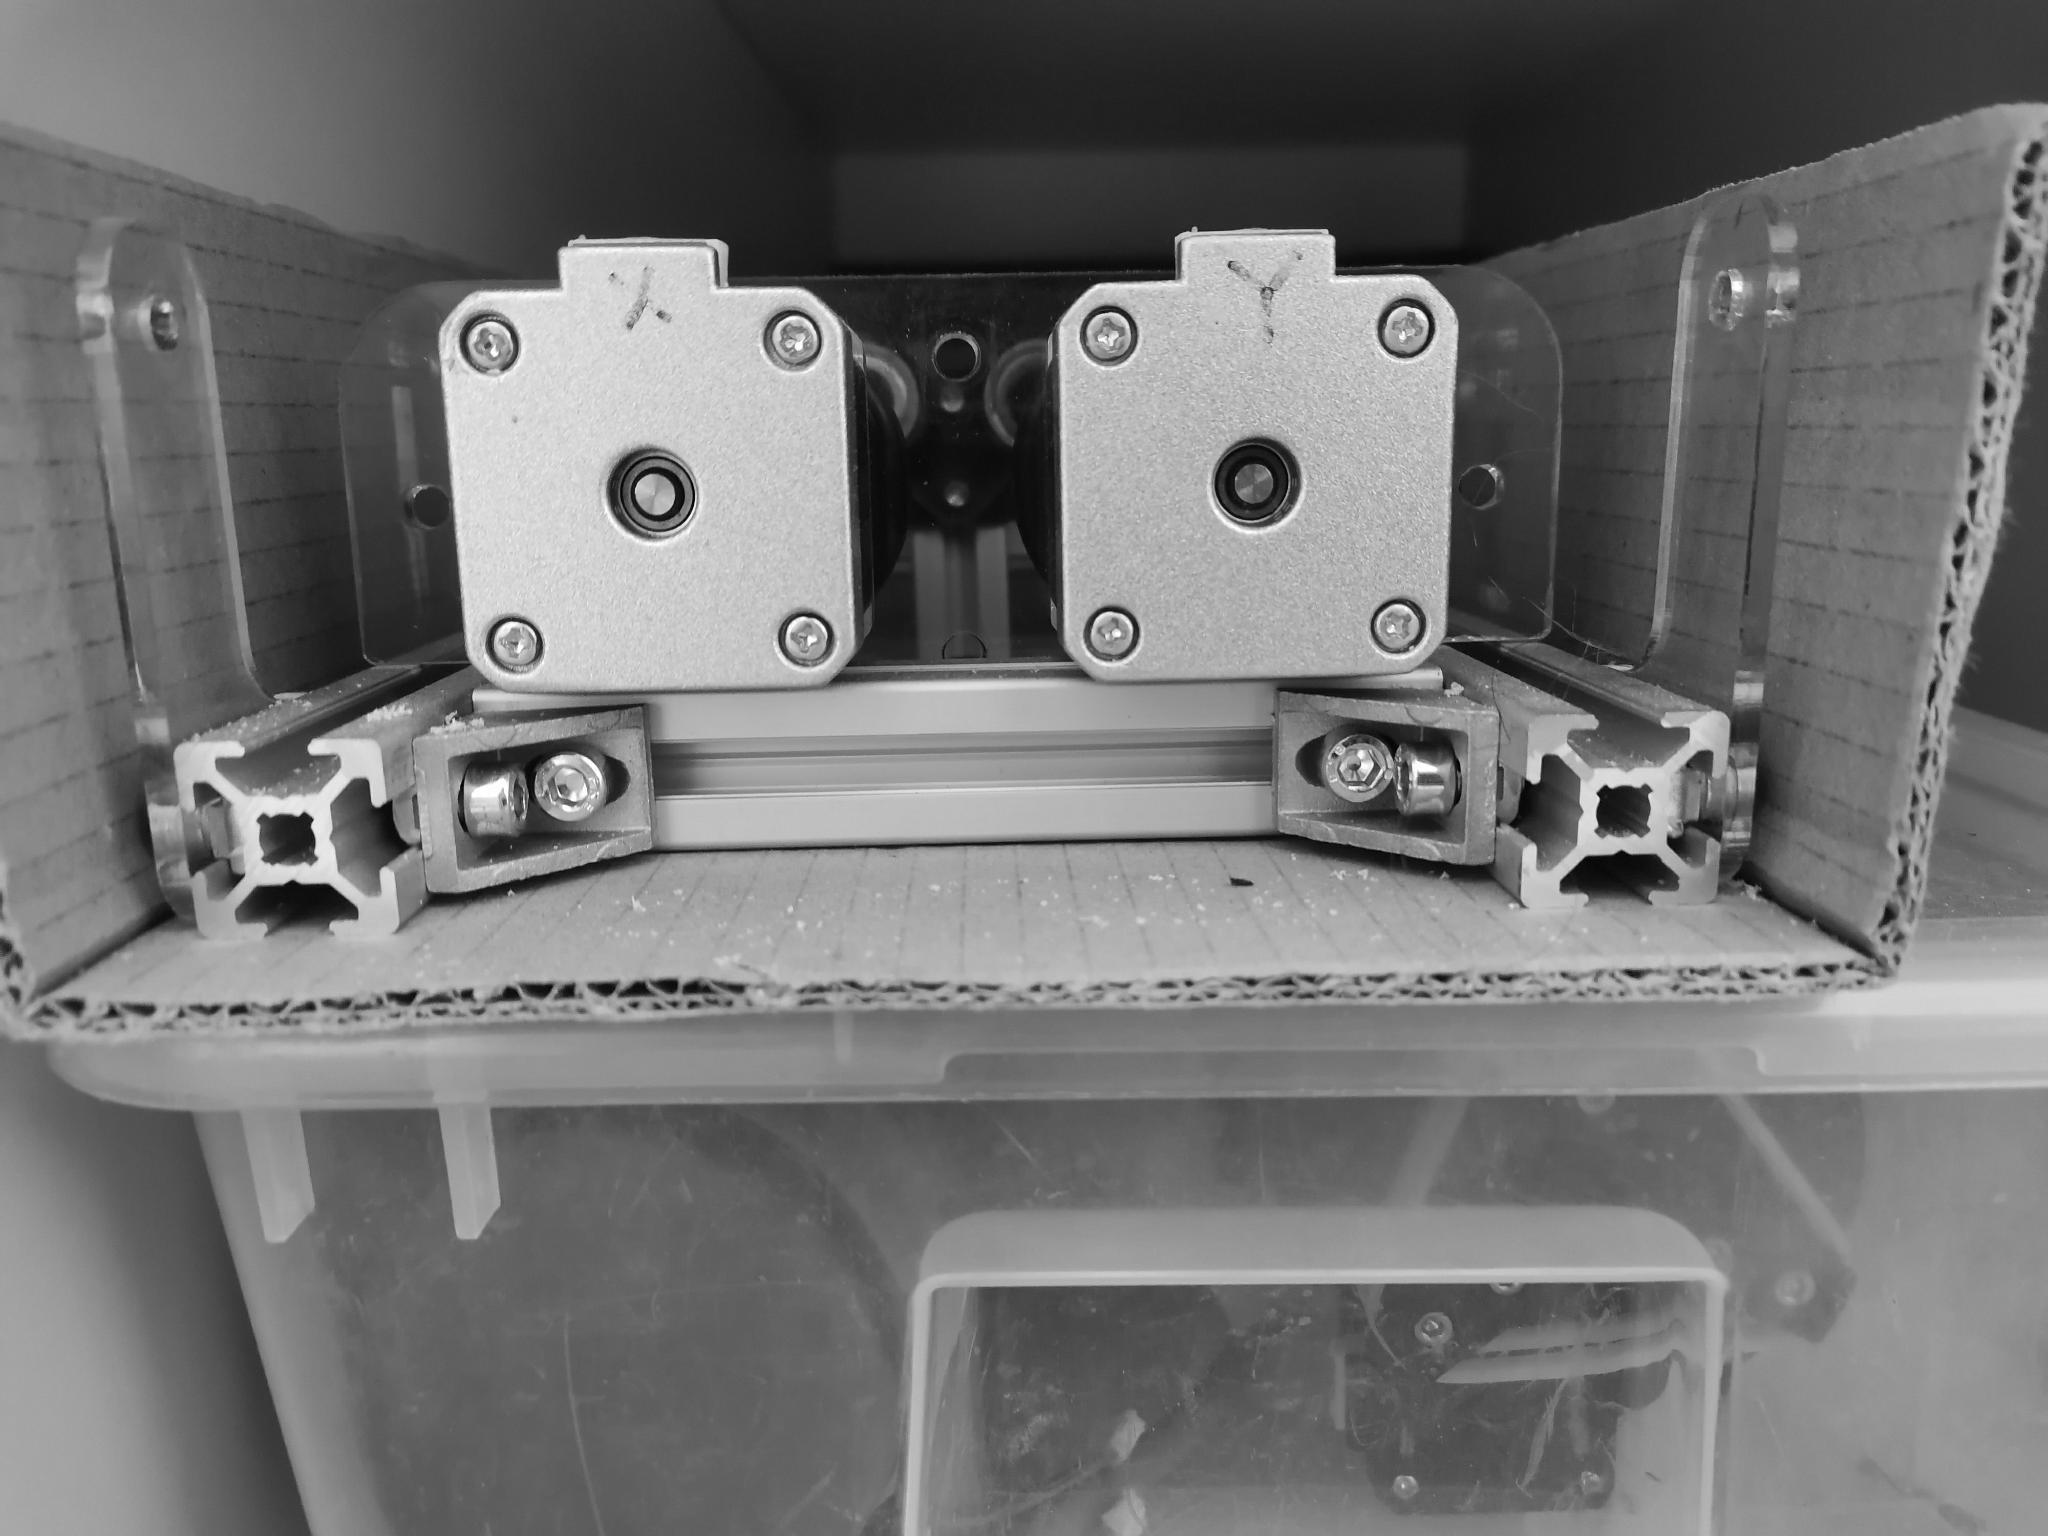allen: (528, 748, 608, 824), (1322, 732, 1400, 806)
philips-PZ: (1364, 592, 1428, 656), (1374, 298, 1438, 362), (760, 308, 824, 368), (456, 314, 520, 374), (1076, 308, 1140, 366), (1082, 605, 1140, 665), (484, 616, 544, 674), (772, 614, 832, 668)
